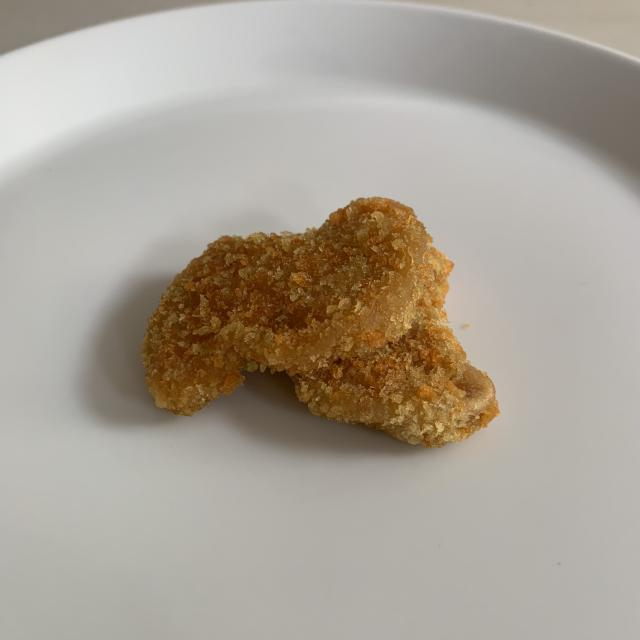Frango: (138, 198, 424, 412), (284, 202, 500, 450)
